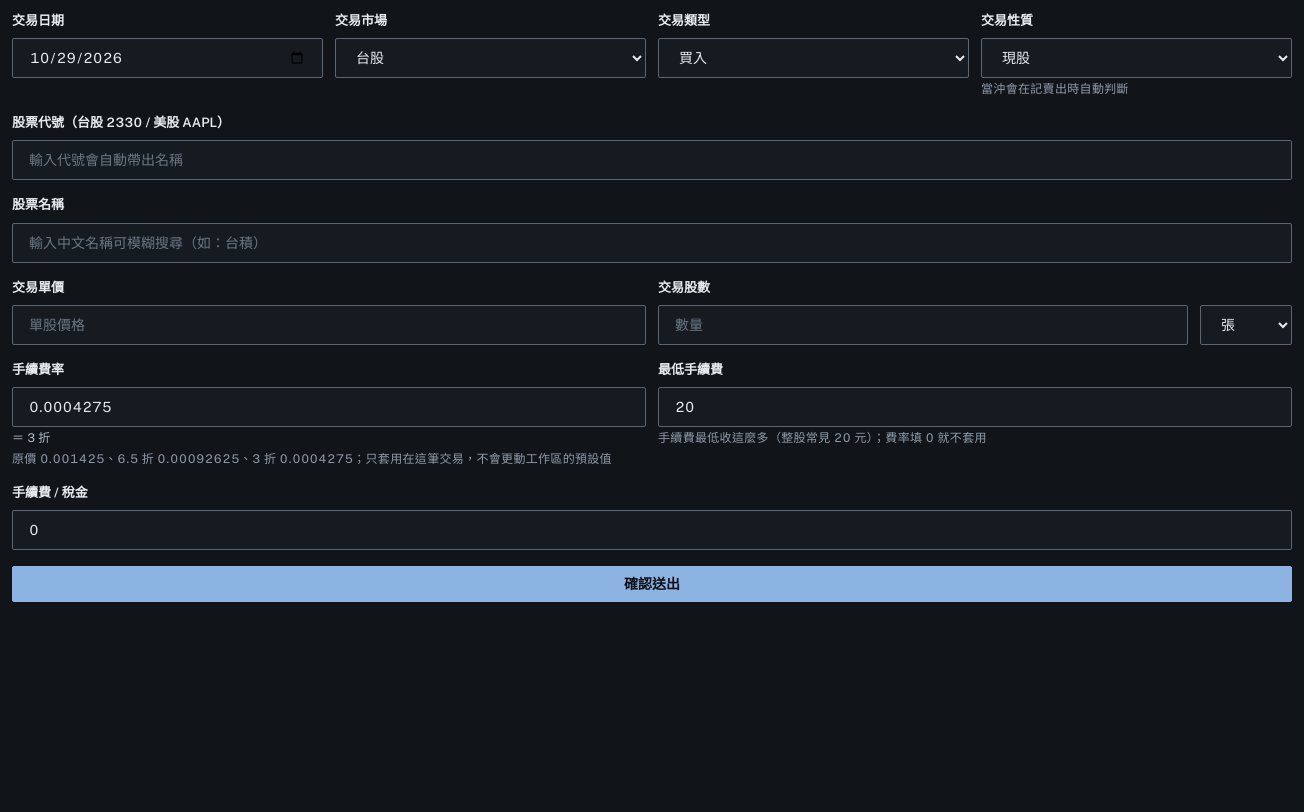
it: M2 單筆輸入的手續費率不帶到下一筆 › goes back to the workspace rate after a successful add
Replace the text in the number field labelled "手續費率" with "0.001425" at (329, 407), box [12,387,646,427]
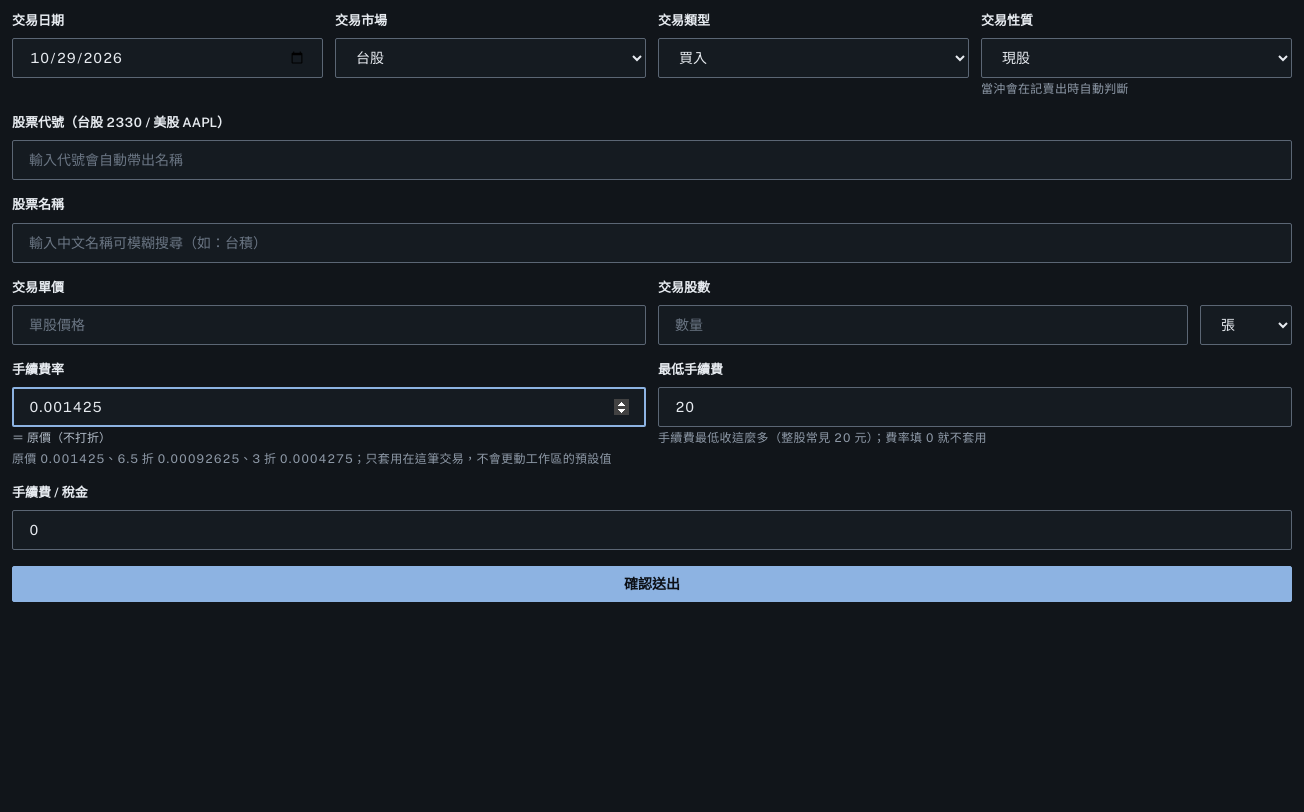
Type "2330" into the field labelled "股票代號（台股 2330 / 美股 AAPL）" at (652, 160), box [12,140,1292,180]
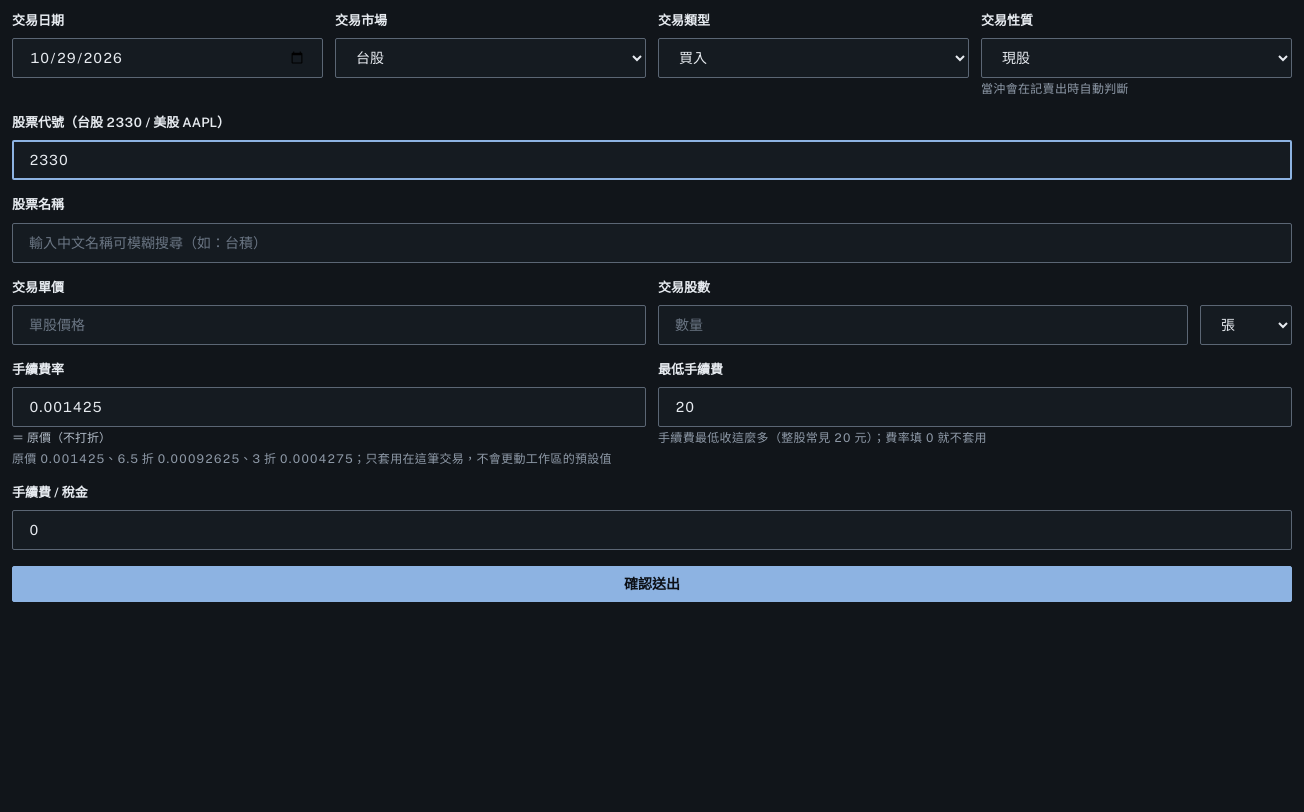
Clear the number field labelled "交易單價" at (329, 325), box [12,305,646,345]
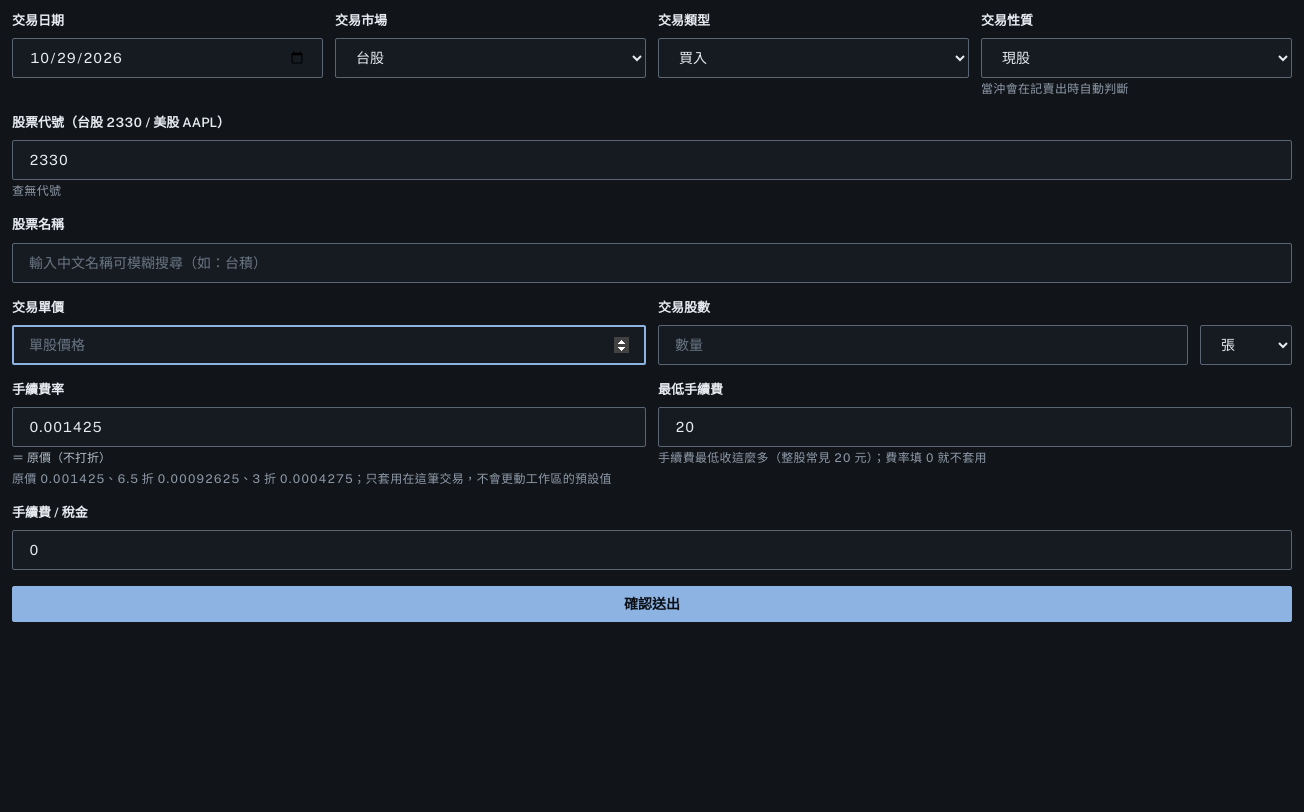
Type "100" into the number field labelled "交易單價" at (329, 345), box [12,325,646,365]
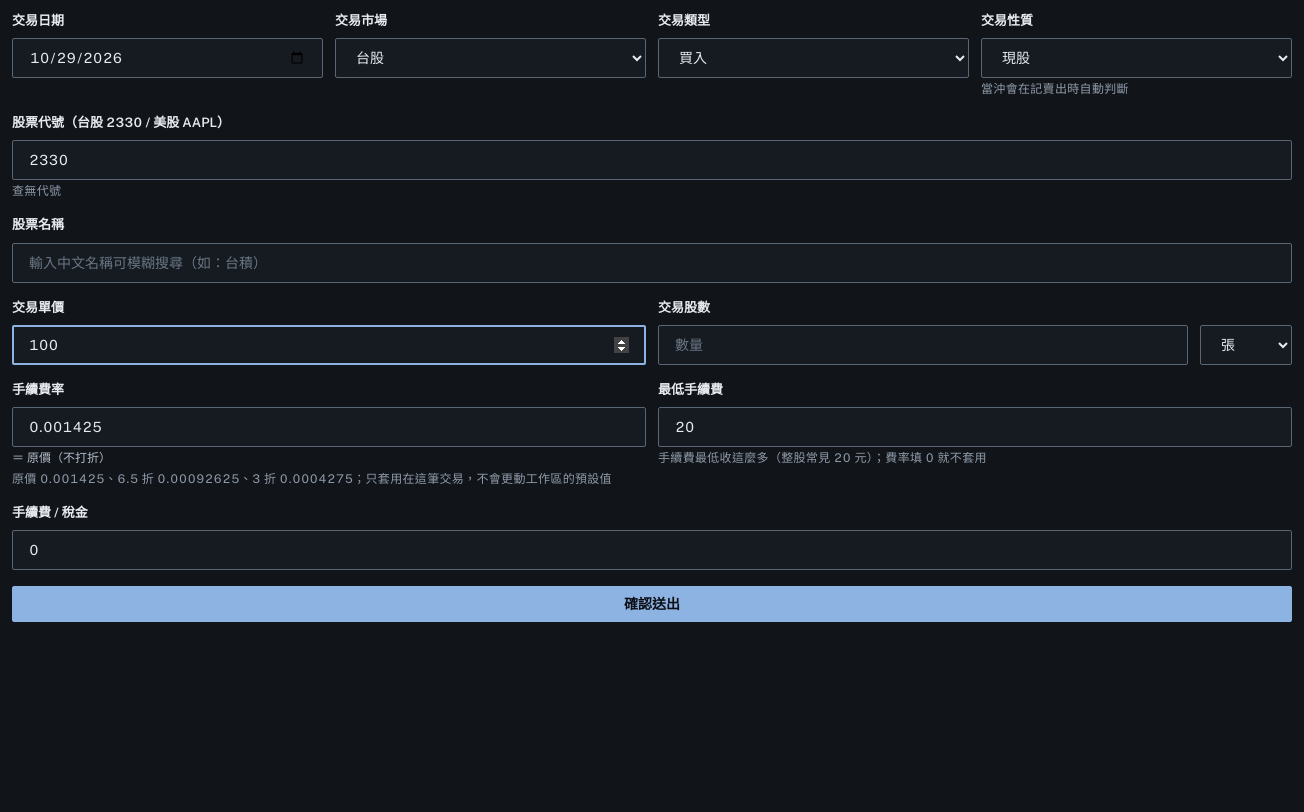
Type "1" into the number field labelled "交易股數" at (923, 345), box [658,325,1188,365]
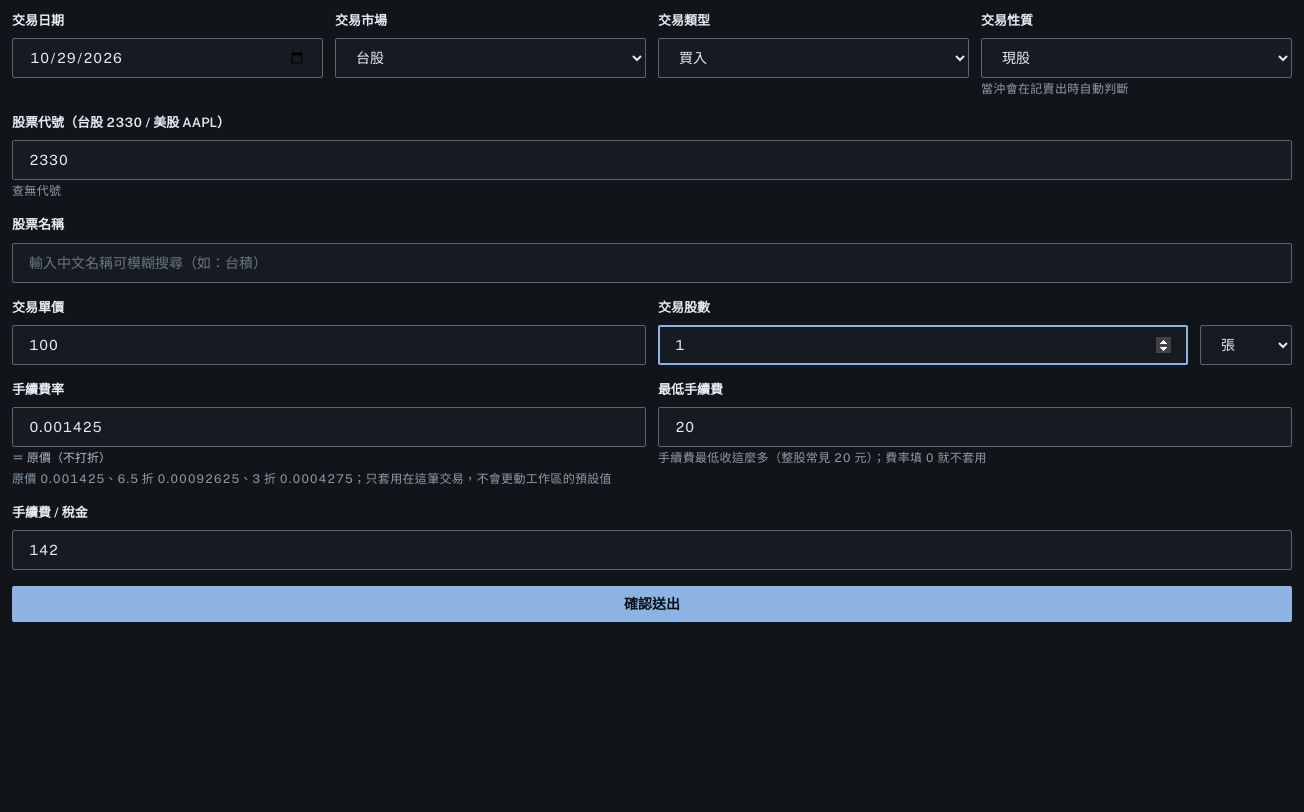
Click the button "確認送出" at (652, 604), box [12,586,1292,622]
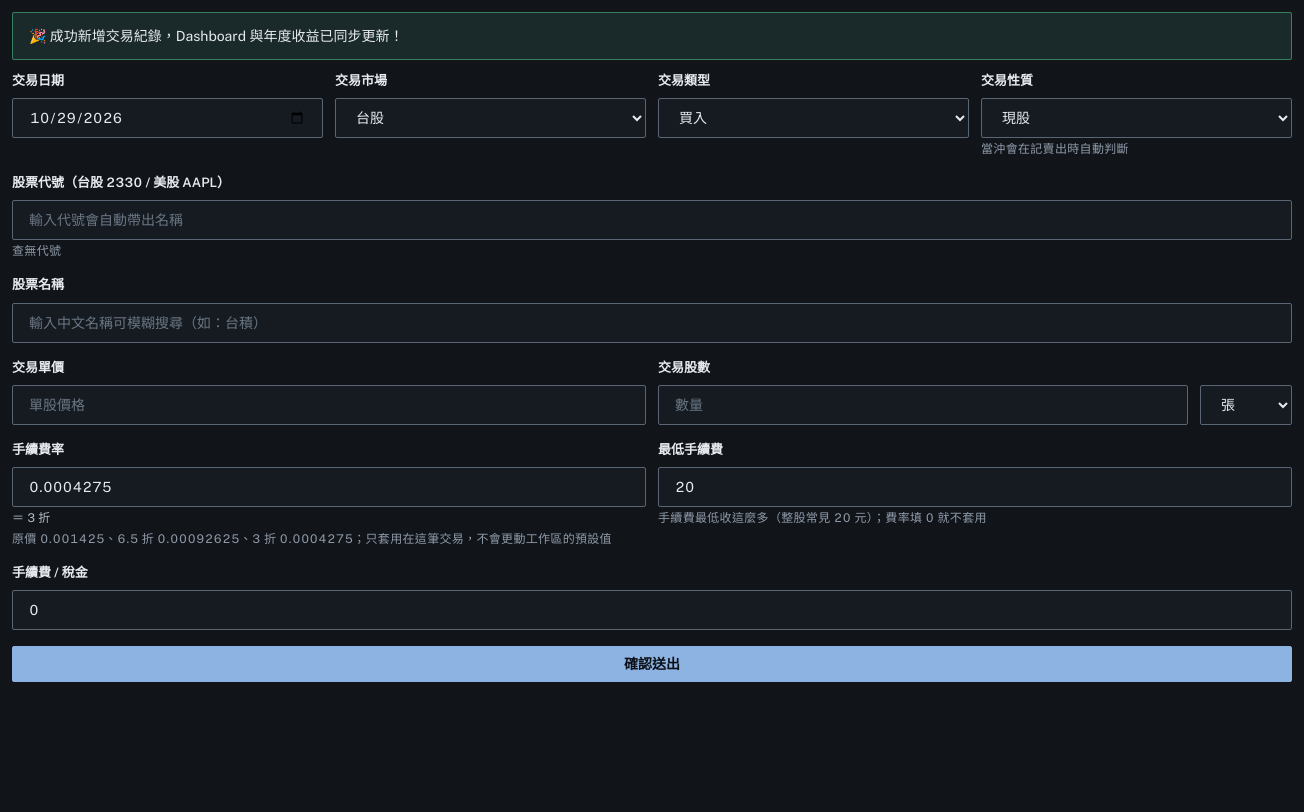
Expected: the number field labelled "手續費率" holds "0.0004275", [12,467,646,507]
